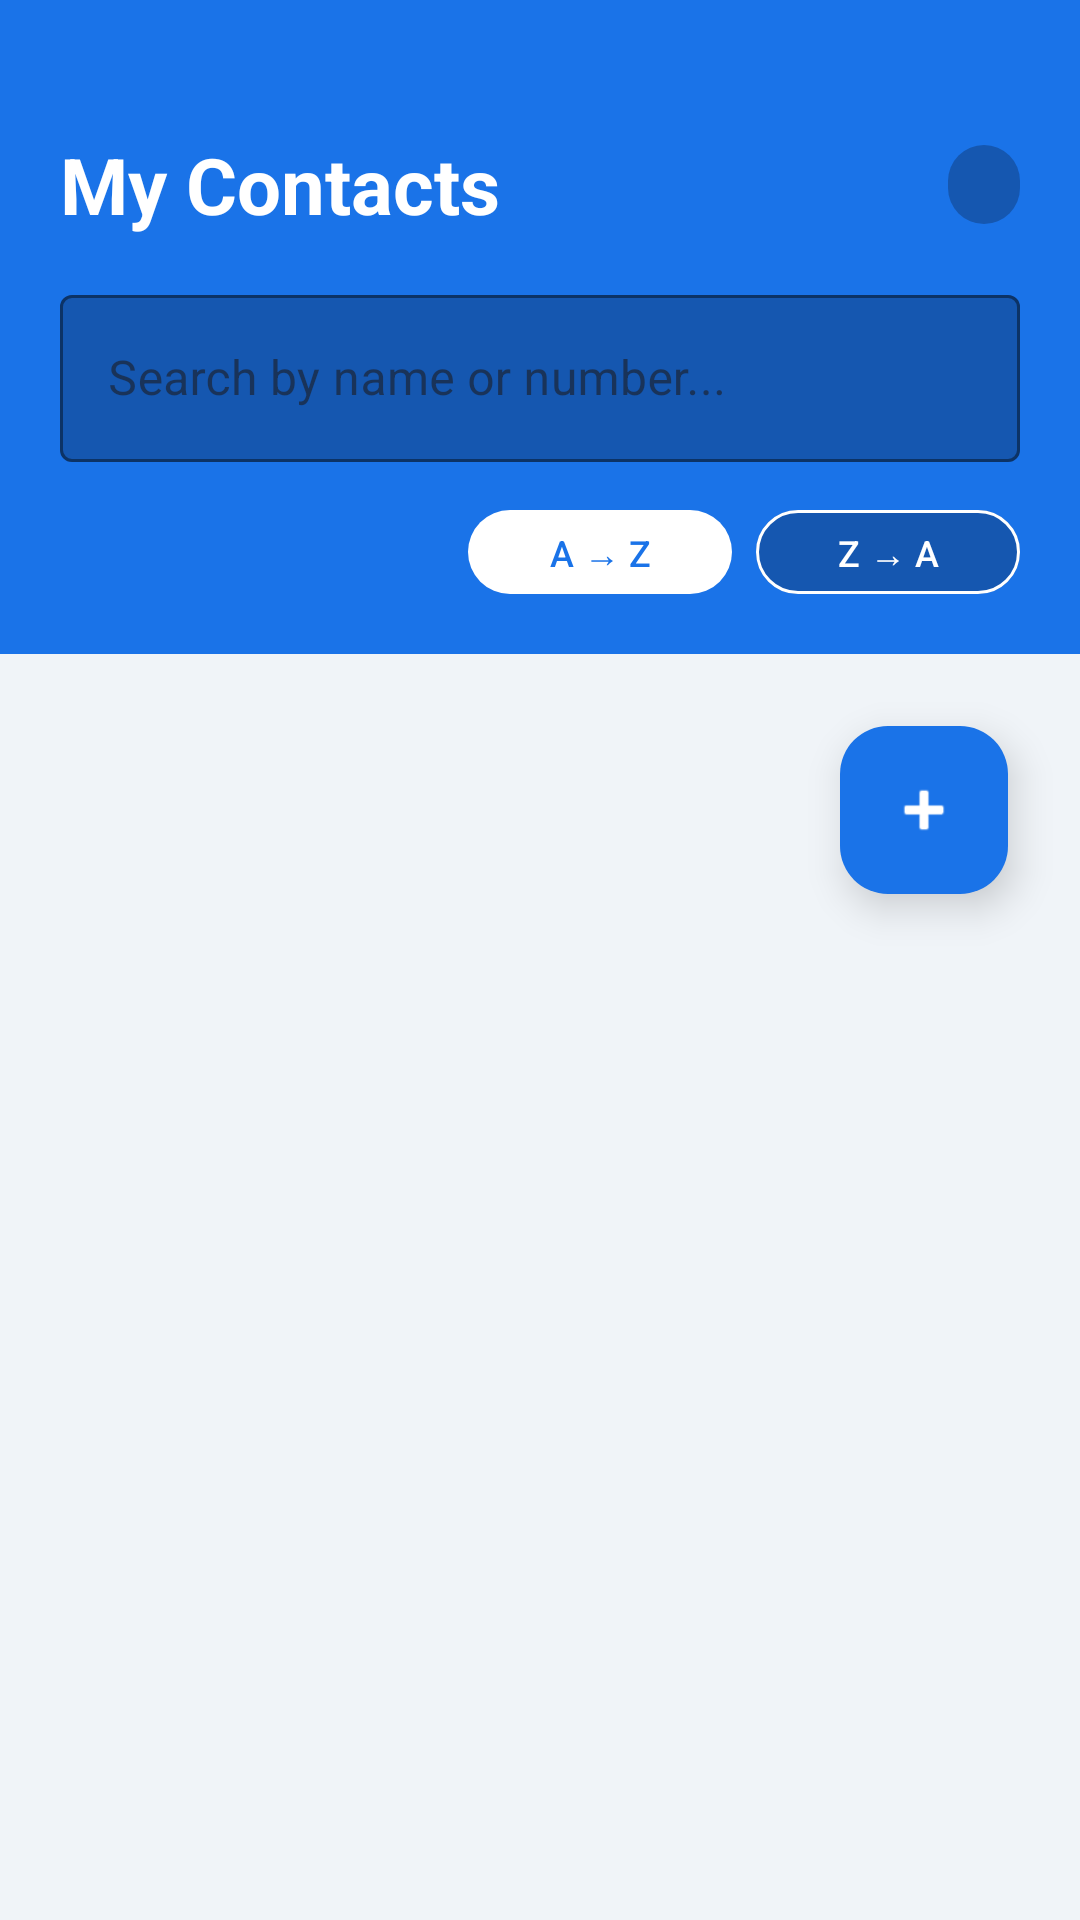

Screen size 1080w x 1920h. Icon name, then its center in pixels as [x,y]:
Add Contact: [924,810]
